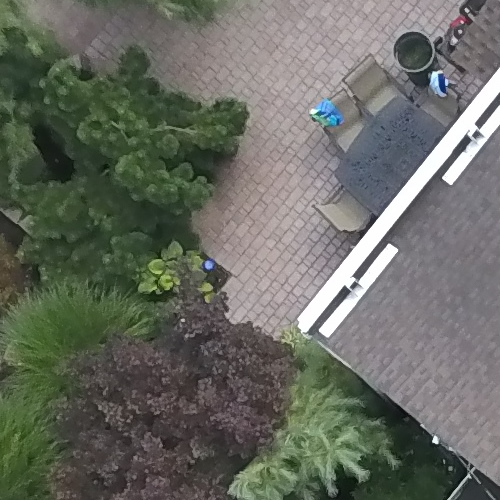container: (388, 22, 442, 90), (199, 256, 221, 277)
